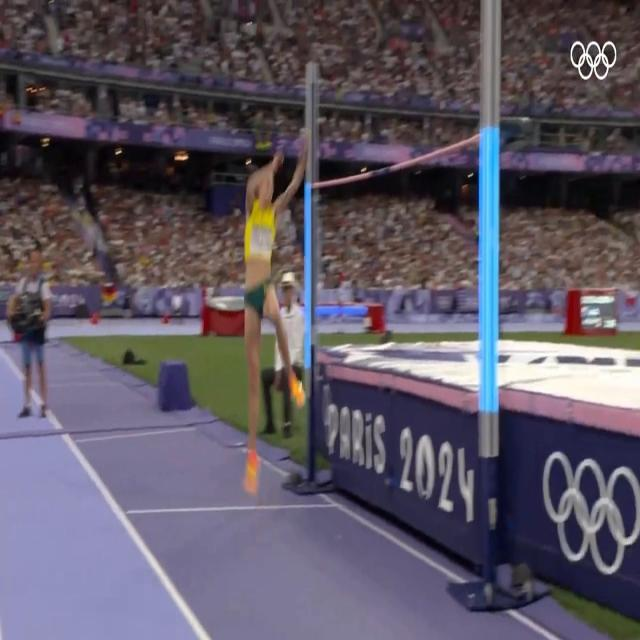jump: (236, 136, 310, 493)
